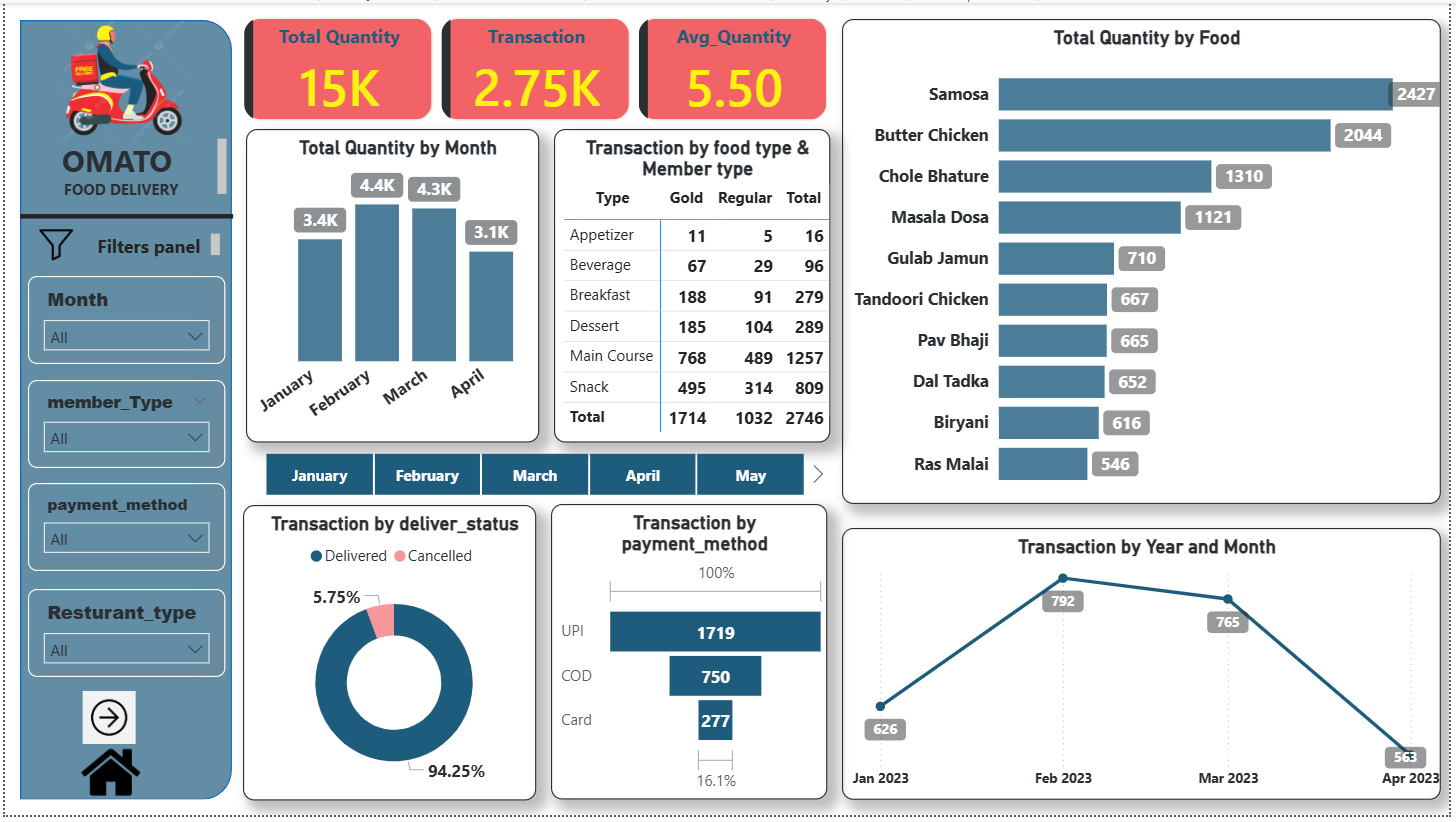

Layout of this report page (visuals, bound fields, positions):
{"tool":"powerbi","page":{"name":"OMATO DASHBOARD","canvas":[1280,720],"ordinal":0},"visuals":[{"type":"shape","box":[8.8,9.7,203.3,697.4],"z":0},{"type":"image","box":[43.8,23.3,135.2,88.5],"z":1000},{"type":"textbox","box":[17.5,111.9,188.7,58.4],"z":2000},{"type":"shape","box":[17.5,163.4,188.7,36],"z":3000},{"type":"cardVisual","fields":{"Data":["Sales Data.Total Quantity","Sales Data.Transaction","Sales Data.Ave_Quntity_Perorder"]},"box":[227.6,9.7,555.4,135.2],"z":4000},{"type":"clusteredColumnChart","fields":{"Category":["Sales Data.orderDate.Variation.Date Hierarchy.Month"],"Y":["Sales Data.Total Quantity"]},"box":[227.6,160.5,280.1,228.6],"z":5000},{"type":"pivotTable","fields":{"Rows":["Food_Details.Type"],"Columns":["Customer Details.member_Type"],"Values":["Sales Data.Transaction"]},"box":[525.2,156.6,257.8,230.5],"z":6000},{"type":"donutChart","fields":{"Category":["Sales Data.deliver_status"],"Y":["Sales Data.Transaction"]},"box":[227.6,408.5,280.1,298.6],"z":7000},{"type":"funnel","fields":{"Y":["Sales Data.Transaction"],"Category":["Sales Data.payment_method"]},"box":[525.2,408.5,257.8,298.6],"z":8000},{"type":"clusteredBarChart","title":"Total Quantity by Top 10 Food","fields":{"Category":["Food_Details.Food"],"Y":["Sales Data.Total Quantity"]},"box":[799.5,14.6,463,467.8],"z":9000},{"type":"lineChart","fields":{"Category":["Sales Data.orderDate.Variation.Date Hierarchy.Month"],"Y":["Sales Data.Total Quantity"]},"box":[800.5,499,463,208.1],"z":10000},{"type":"slicer","fields":{"Values":["Sales Data.orderDate.Variation.Date Hierarchy.Month"]},"box":[22,264.5,179.9,60.3],"z":11000,"group":"g1"},{"type":"image","box":[57.6,603,102.9,83.3],"z":11000},{"type":"group","id":"g1","title":"Group 1","box":[21.4,264.5,180.5,310.3],"z":12000},{"type":"slicer","fields":{"Values":["Sales Data.payment_method"]},"box":[21.4,339.4,179.9,60.3],"z":12000,"group":"g1"},{"type":"image","box":[8.9,191.5,76.3,42.6],"z":12001},{"type":"textbox","box":[74.5,190.6,127.7,44.3],"z":12002},{"type":"slicer","fields":{"Values":["Sales Data.deliver_status"]},"box":[21.4,425,179.9,60.3],"z":13000,"group":"g1"},{"type":"slicer","fields":{"Values":["Resturant_Details.Resturant_Name"]},"box":[21.4,514.5,179.9,60.3],"z":14000,"group":"g1"}]}

Visuals, with their boxes in screenshot pixels (x1, y1, x2, y2), scaled from the page's 1280x720 canvas onto the 1456x822 screenshot:
shape: locate(10, 11, 241, 807)
image: locate(50, 27, 204, 128)
textbox: locate(20, 128, 235, 194)
shape: locate(20, 187, 235, 228)
cardVisual - Sales Data.Total Quantity x Sales Data.Transaction: locate(259, 11, 891, 165)
clusteredColumnChart - Sales Data.orderDate.Variation.Date Hierarchy.Month x Sales Data.Total Quantity: locate(259, 183, 578, 444)
pivotTable - Food_Details.Type x Customer Details.member_Type: locate(597, 179, 891, 442)
donutChart - Sales Data.deliver_status x Sales Data.Transaction: locate(259, 466, 578, 807)
funnel - Sales Data.Transaction x Sales Data.payment_method: locate(597, 466, 891, 807)
"Total Quantity by Top 10 Food" clusteredBarChart: locate(909, 17, 1436, 551)
lineChart - Sales Data.orderDate.Variation.Date Hierarchy.Month x Sales Data.Total Quantity: locate(911, 570, 1437, 807)
slicer - Sales Data.orderDate.Variation.Date Hierarchy.Month: locate(25, 302, 230, 371)
image: locate(66, 688, 183, 784)
"Group 1" group: locate(24, 302, 230, 656)
slicer - Sales Data.payment_method: locate(24, 387, 229, 456)
image: locate(10, 219, 97, 267)
textbox: locate(85, 218, 230, 268)
slicer - Sales Data.deliver_status: locate(24, 485, 229, 554)
slicer - Resturant_Details.Resturant_Name: locate(24, 587, 229, 656)
